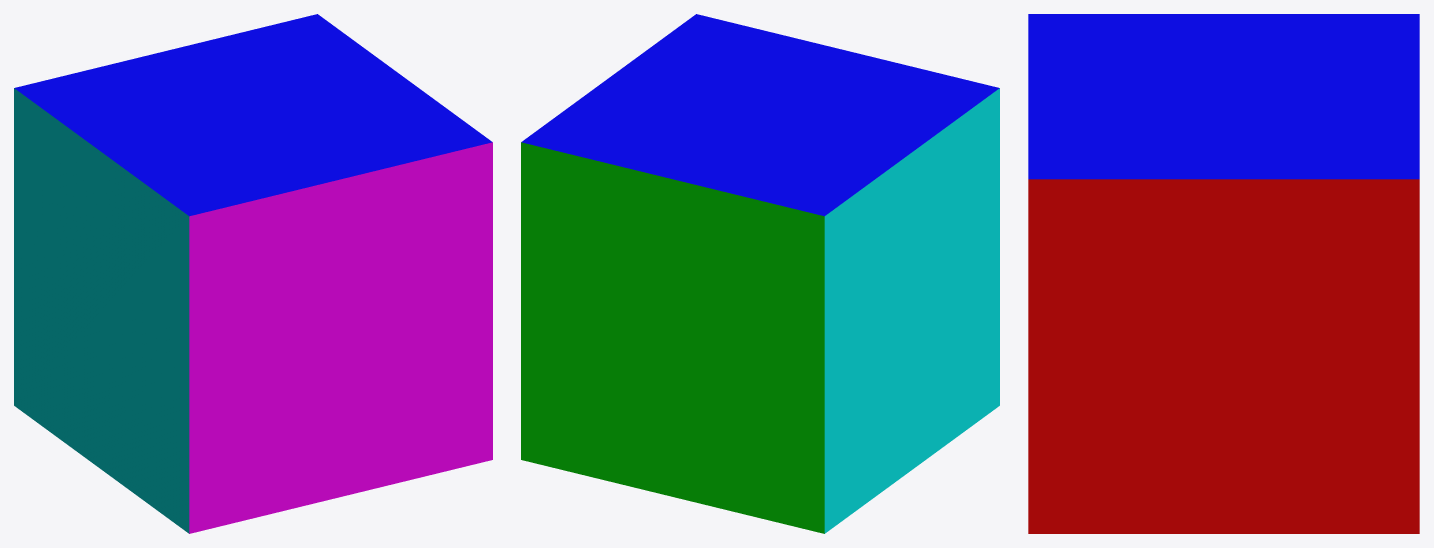
The picture shows the model from 3 angles, left to right: view 1: azimuth 30°, elevation 25°; view 2: azimuth 150°, elevation 25°; view 3: azimuth 270°, elevation 25°; orthographic projection. The views are drawn at different scales.
Parts seen in each view (by area): view 1: 635f44e6c82c114115f9a6bf (×3); view 2: 635f44e6c82c114115f9a6bf (×3); view 3: 635f44e6c82c114115f9a6bf (×2).
Part boxes in pixels (x1,y1,x2,y2): 635f44e6c82c114115f9a6bf (×3): [14, 14, 492, 533]; 635f44e6c82c114115f9a6bf (×3): [521, 14, 999, 533]; 635f44e6c82c114115f9a6bf (×2): [1028, 14, 1419, 533].
Size of the model in its own units: 0.1 by 0.1 by 0.1.
